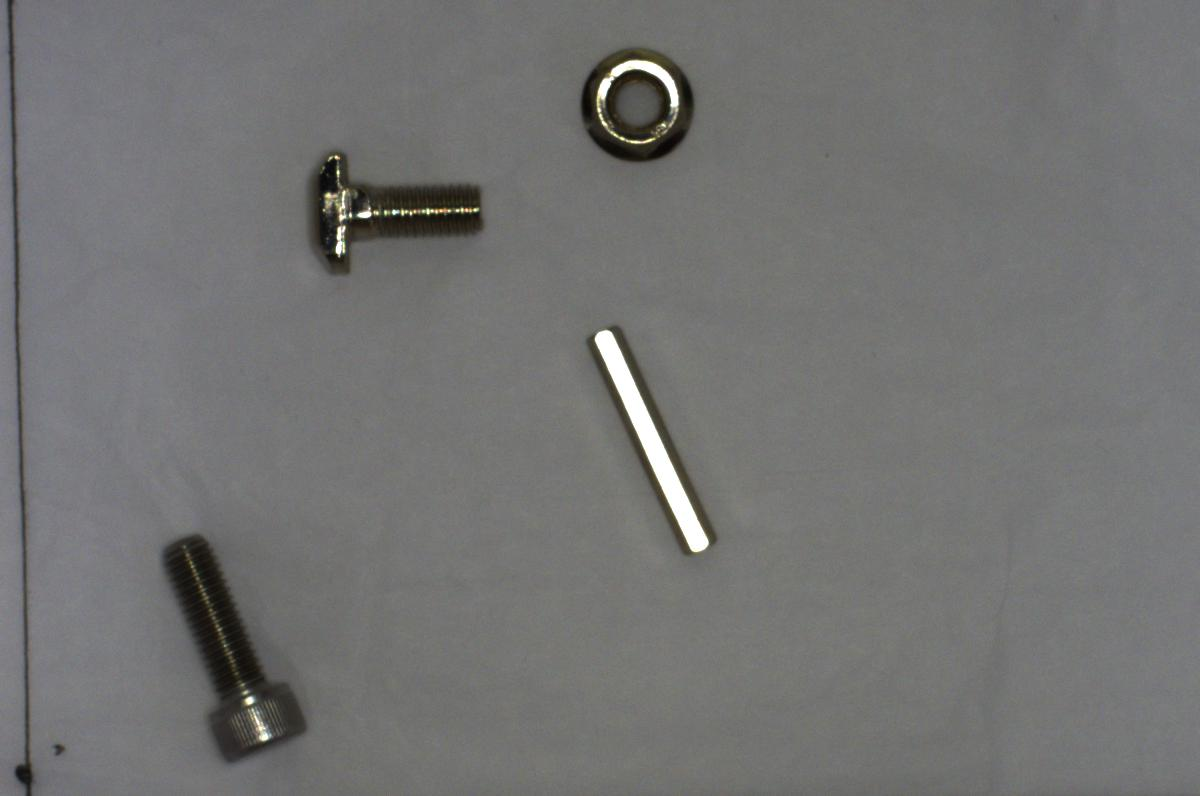Double hexagonal column: (578, 316, 724, 565)
Flange nut: (574, 39, 697, 165)
Hexagon screw: (157, 522, 317, 769)
T-shaped screw: (298, 143, 498, 283)
